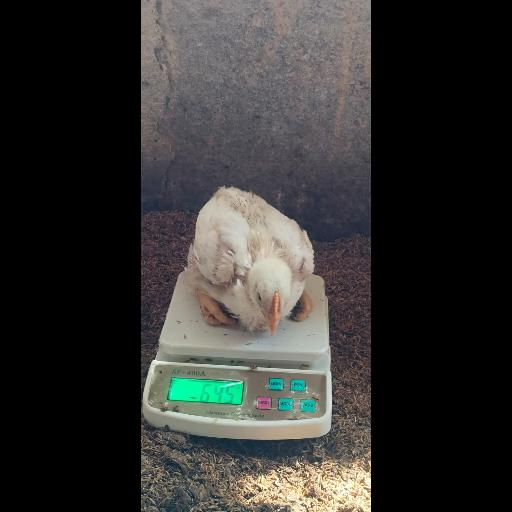chick: (186, 189, 315, 337)
